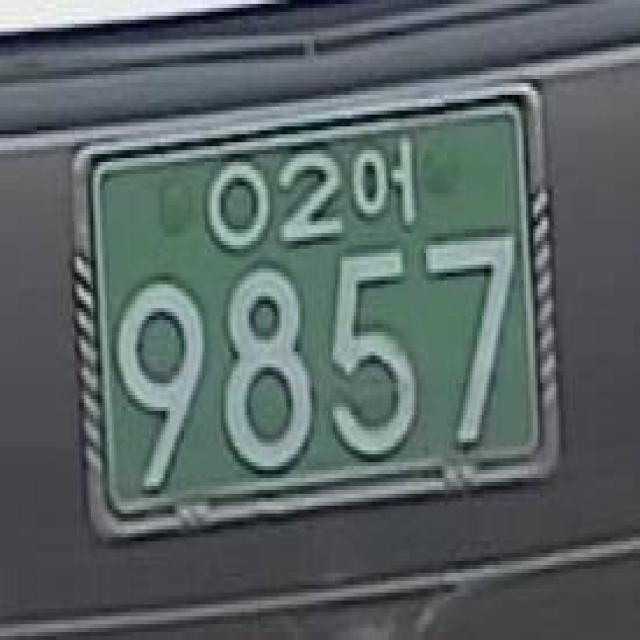illegal_plate: (64, 90, 568, 552)
